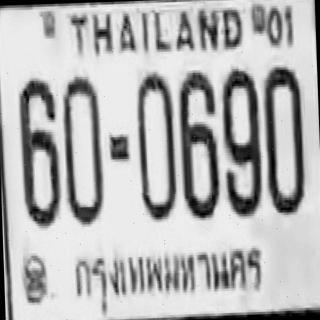N00: (261, 64, 305, 213), (62, 72, 104, 224), (134, 70, 176, 219)
N06: (176, 68, 220, 217), (18, 75, 61, 226)
N09: (220, 64, 261, 216)
P04: (64, 234, 273, 316)
